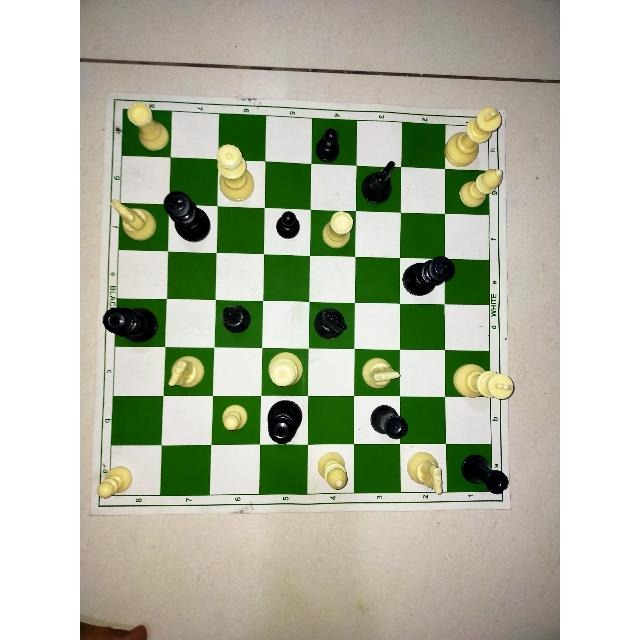black-bishop: (216, 298, 256, 340)
black-king: (400, 252, 464, 308), (160, 187, 213, 247), (397, 253, 459, 301)
black-knight: (358, 157, 401, 205), (308, 304, 349, 346)
black-pawn: (306, 122, 344, 166), (271, 206, 305, 246)
black-queen: (95, 303, 163, 347), (260, 399, 307, 449)
black-rook: (460, 448, 513, 498), (366, 398, 410, 442)
white-bishop: (457, 168, 507, 220), (312, 448, 352, 498)
white-king: (442, 104, 508, 168), (451, 361, 515, 403)
white-knight: (107, 193, 158, 245), (406, 446, 449, 501), (356, 350, 403, 393), (165, 348, 207, 394)
white-pawn: (93, 459, 137, 503), (220, 400, 255, 436)
white-queen: (212, 141, 258, 204), (263, 346, 310, 395)
white-rook: (121, 98, 176, 155), (317, 206, 357, 248)
